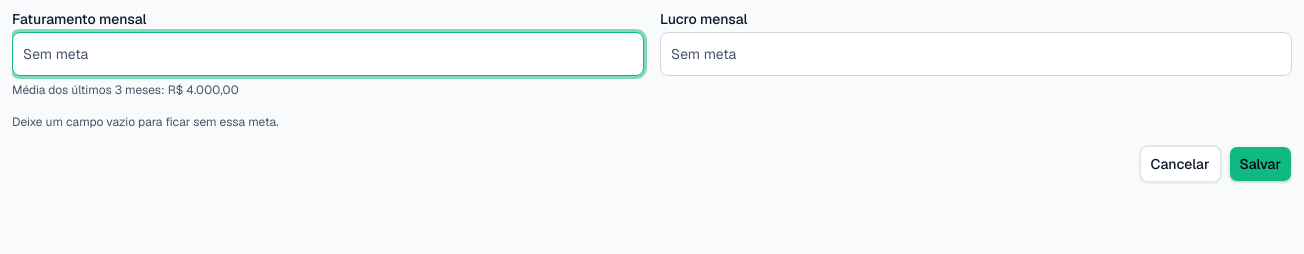
Test: IncomeGoalsForm › should keep the form open with the API error
Type "6000" into the field labelled "Faturamento mensal".
click(328, 54); type("6000")  # box left=12, top=32, right=644, bottom=76
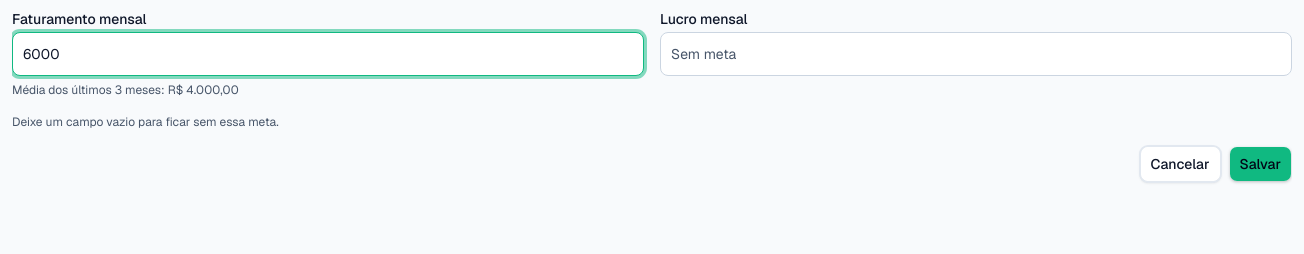
Click the button "Salvar".
click(1260, 164)  # box left=1228, top=146, right=1292, bottom=182
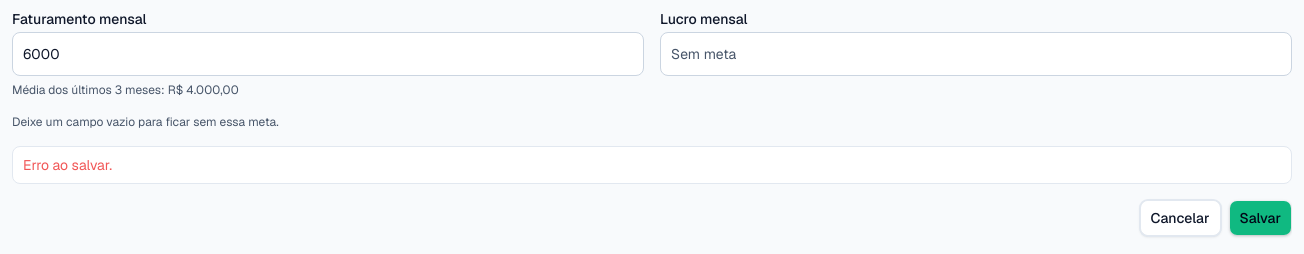
Expected: the text "Erro ao salvar." is shown, left=23, top=156, right=112, bottom=174
